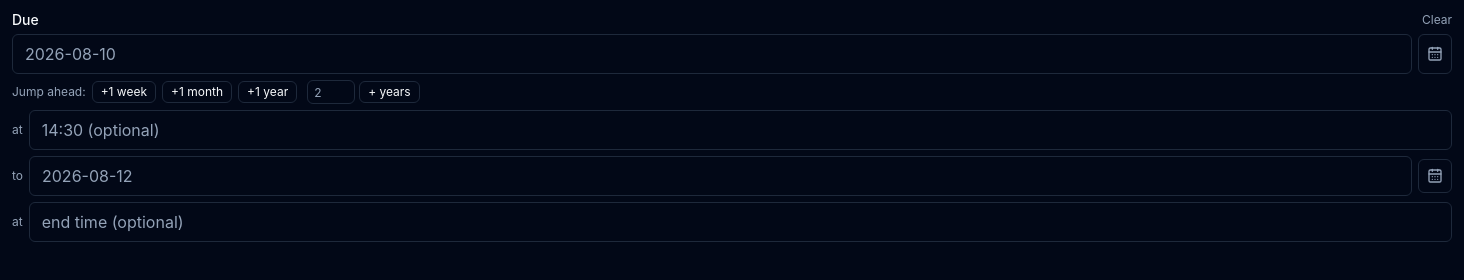
it: DueFieldset › flags an end date before the start and commits nothing
This screenshot has width=1464, height=280.
Replace the text in the field named "Due end (optional)" with "2026-08-01" at (720, 176), box [29, 156, 1412, 196]
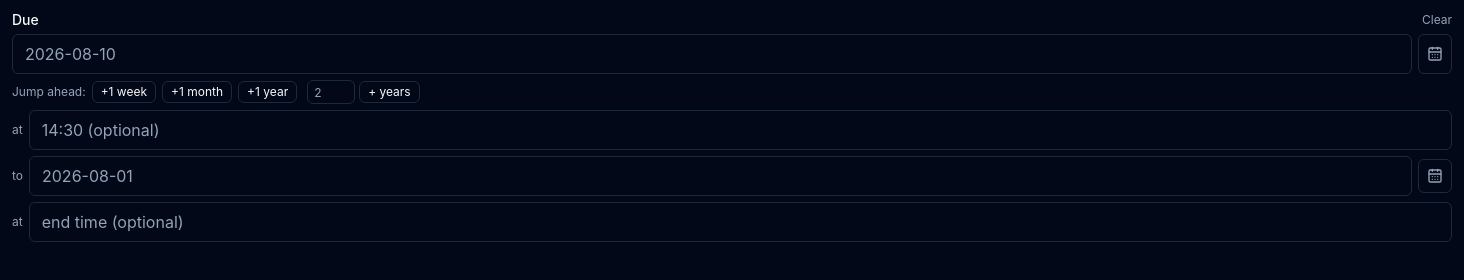
Leave the field named "Due end (optional)", box [29, 156, 1412, 196]
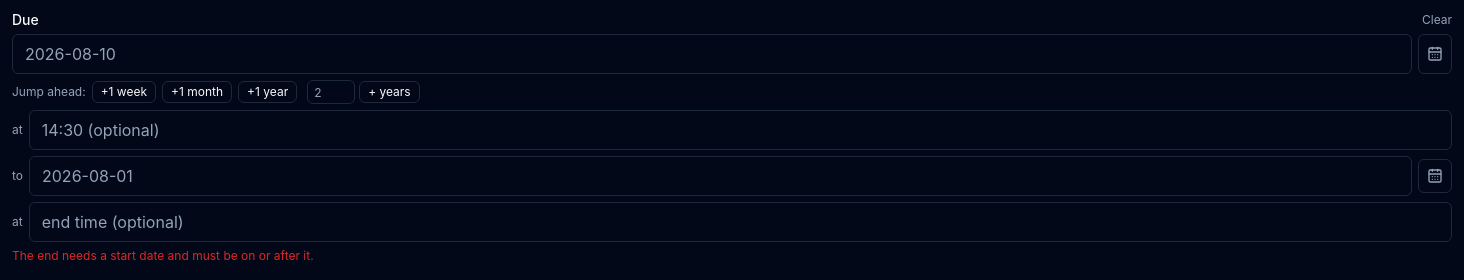
Expected: the message "The end needs a start date and must be on or after it." is shown, [12, 248, 314, 263]
